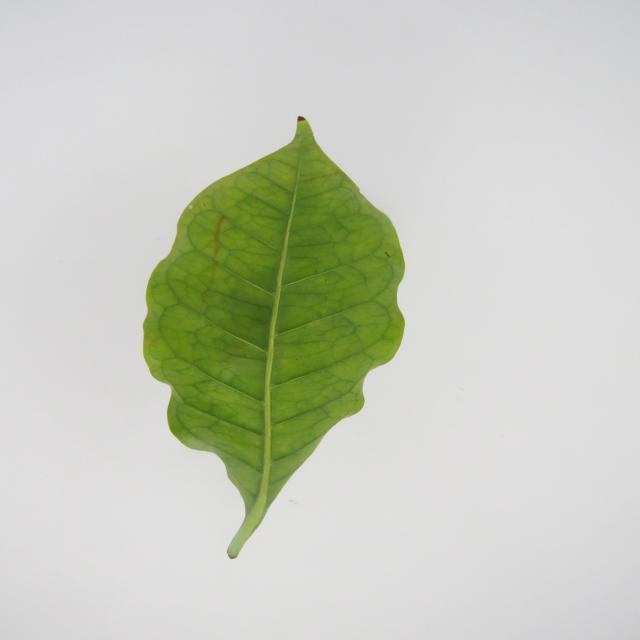DeficienciaNutricional-Calcio: (143, 116, 405, 558)
